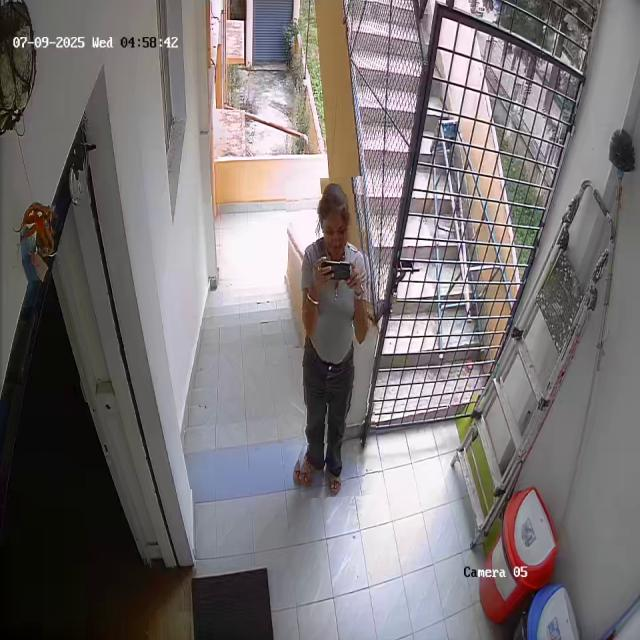person: (290, 177, 376, 498)
